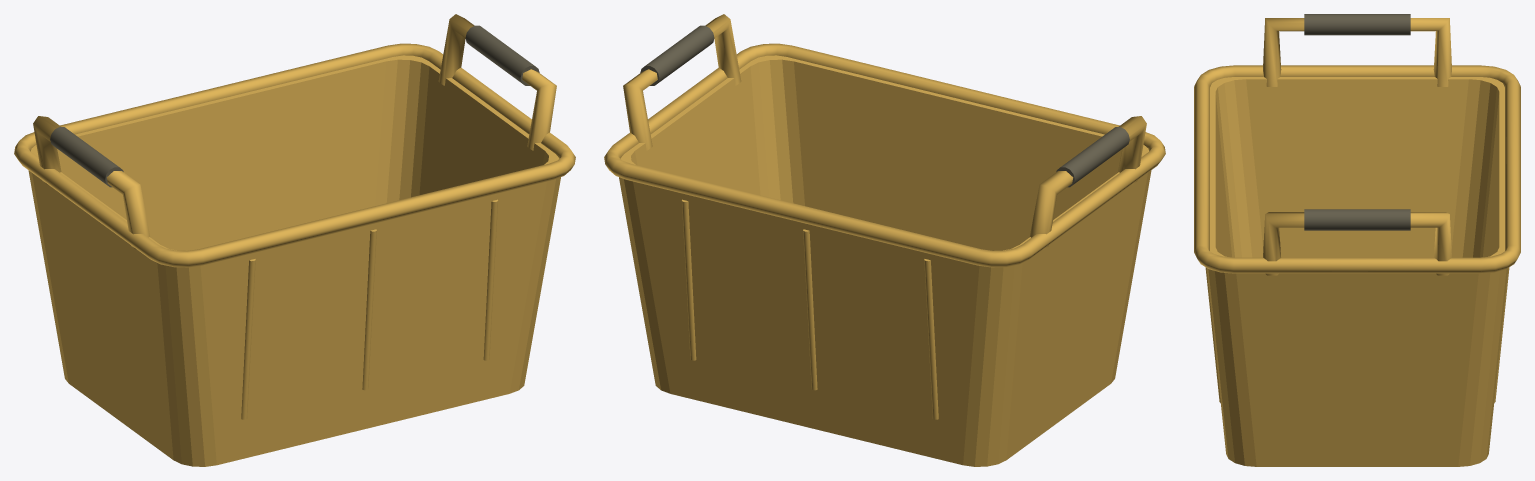
File: tote_open.glb
The picture shows the model from 3 angles, left to right: view 1: azimuth 30°, elevation 25°; view 2: azimuth 150°, elevation 25°; view 3: azimuth 270°, elevation 25°; orthographic projection. The views are drawn at different scales.
Parts seen in each view (by area): view 1: Open carry tote tapered closed wall, Open carry tote rolled upper rim, Raised end carry handle.001, Raised end carry handle, Dark handle grip.001, Dark handle grip, Molded side reinforcement, Molded side reinforcement.001, Molded side reinforcement.002; view 2: Open carry tote tapered closed wall, Open carry tote rolled upper rim, Raised end carry handle.001, Raised end carry handle, Dark handle grip.001, Dark handle grip, Molded side reinforcement.003, Molded side reinforcement.004, Molded side reinforcement.005; view 3: Open carry tote tapered closed wall, Open carry tote rolled upper rim, Raised end carry handle, Raised end carry handle.001, Dark handle grip, Dark handle grip.001.
Part boxes in pixels (x1,y1,x2,y2): Open carry tote tapered closed wall: (28, 55, 560, 466); Open carry tote rolled upper rim: (14, 43, 575, 267); Raised end carry handle.001: (438, 14, 556, 150); Raised end carry handle: (33, 116, 150, 249); Dark handle grip.001: (465, 25, 539, 85); Dark handle grip: (50, 127, 123, 187); Molded side reinforcement: (241, 259, 255, 419); Molded side reinforcement.001: (362, 229, 376, 390); Molded side reinforcement.002: (483, 199, 497, 360); Open carry tote tapered closed wall: (619, 55, 1151, 466); Open carry tote rolled upper rim: (604, 43, 1165, 267); Raised end carry handle.001: (623, 14, 741, 150); Raised end carry handle: (1029, 116, 1146, 249); Dark handle grip.001: (640, 25, 714, 85); Dark handle grip: (1056, 127, 1129, 187); Molded side reinforcement.003: (924, 259, 938, 419); Molded side reinforcement.004: (803, 229, 817, 390); Molded side reinforcement.005: (682, 199, 696, 360); Open carry tote tapered closed wall: (1206, 77, 1508, 466); Open carry tote rolled upper rim: (1194, 65, 1520, 273); Raised end carry handle: (1263, 18, 1451, 86); Raised end carry handle.001: (1263, 212, 1451, 275); Dark handle grip: (1304, 14, 1410, 35); Dark handle grip.001: (1304, 209, 1410, 230).
Bounding box in the file's own units: 0.538 × 0.335 × 0.3639.
